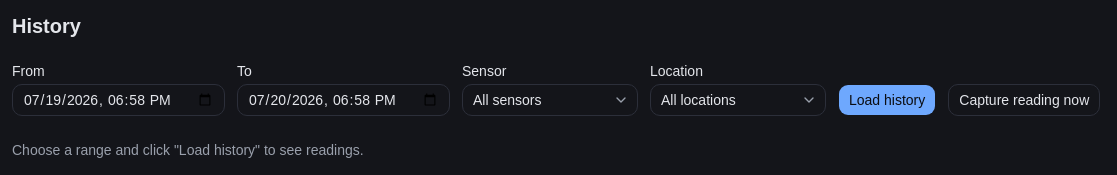
Test: History › shows the genuine empty-range message only after "Load history" returns zero readings
Click the button "Load history". click: (887, 100)
box: [838,84,936,116]
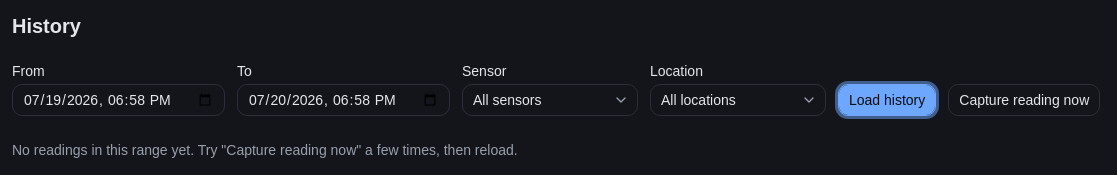
Now the text "No readings in this range yet" is shown, box [12,142,518,158]
Now the text "Choose a range and click" is gone
